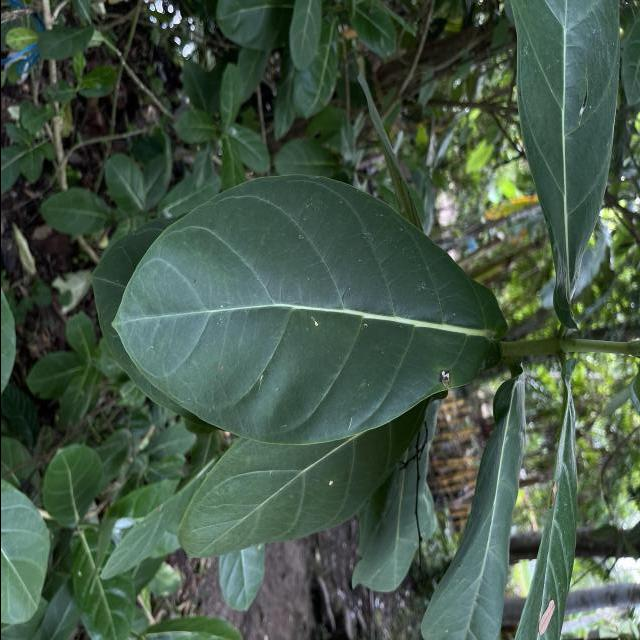Calotropis gigantea: (108, 168, 512, 448), (172, 398, 430, 566), (506, 0, 625, 335), (41, 442, 104, 530), (292, 18, 340, 122), (38, 186, 112, 240), (286, 0, 324, 71)
